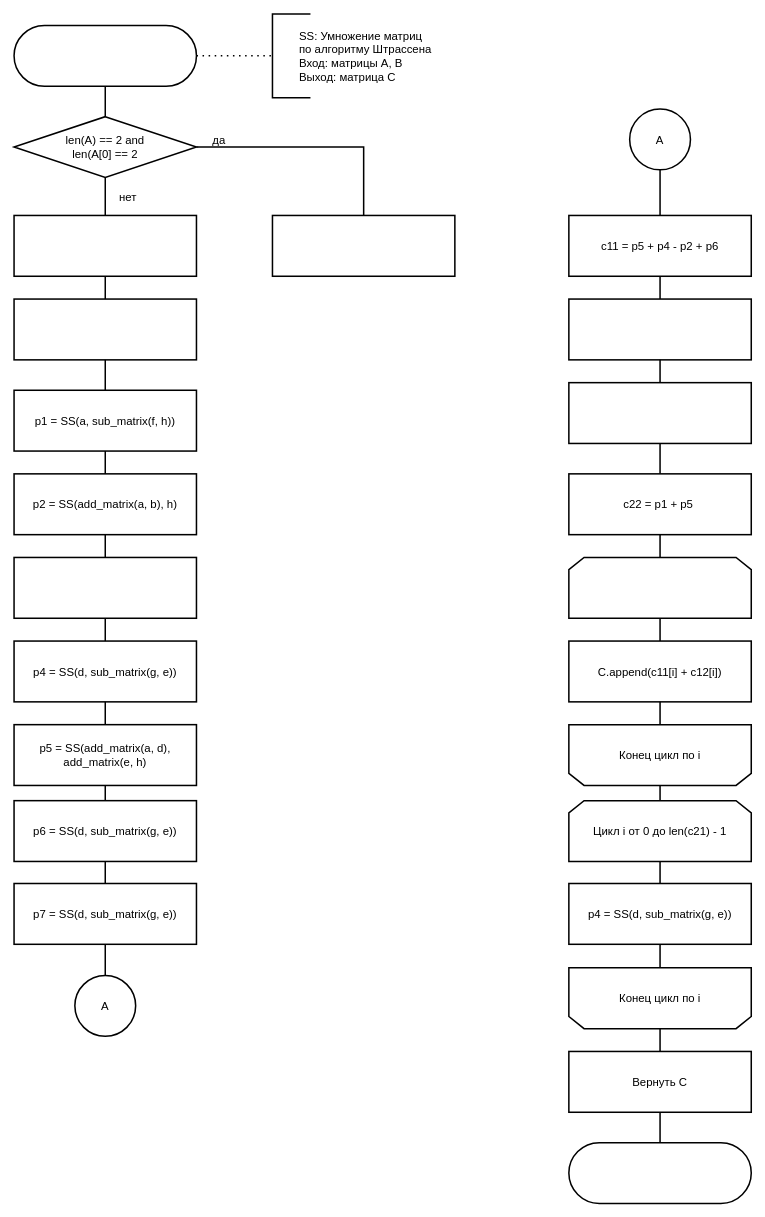
This 765x1217 diagram has some shape labels left out. The shapes that lost their labels are listed below. From the top down, each one's box as (x1, y1, x2, y2) in pixels, then its label:
(13, 24, 197, 87): Начало
(13, 214, 197, 277): a, b, c, d = split(A)
(271, 214, 455, 277): return matrix_multiplication(A, B)
(13, 298, 197, 360): e,f,g,h = split(B)
(568, 298, 752, 360): c12 = p1 + p2
(568, 382, 752, 444): c21 = p3 + p4
(13, 556, 197, 619): p3 = SS(add_matrix(c, d), e)
(568, 556, 752, 619): Цикл i от 0 до len(c12) - 1
(568, 1142, 752, 1204): Конец
